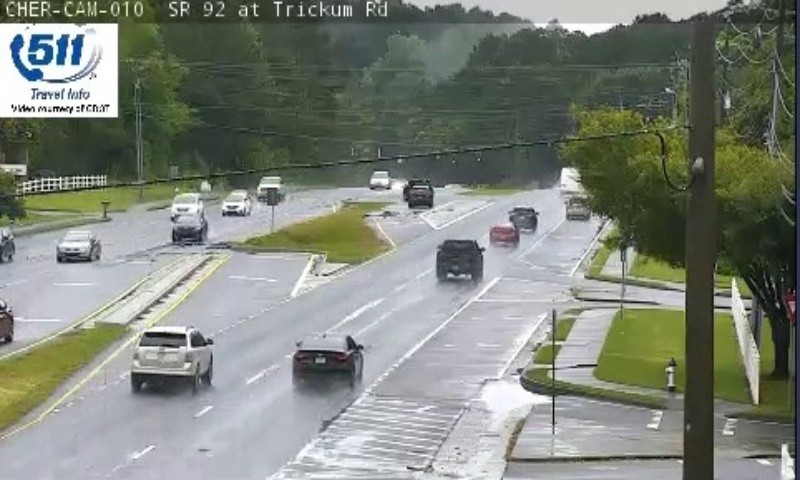car: (131, 326, 212, 377), (293, 333, 363, 382), (435, 240, 483, 277), (509, 207, 536, 230), (488, 221, 517, 242)
